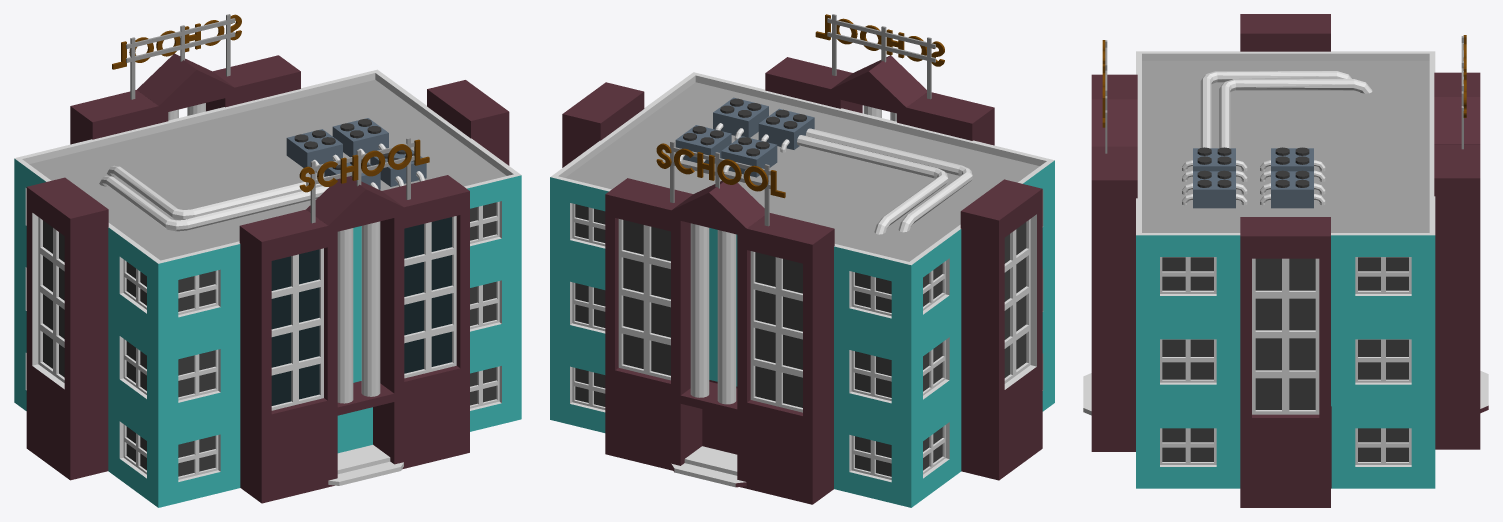
File: 05 School.fbx
The picture shows the model from 3 angles, left to right: view 1: azimuth 30°, elevation 25°; view 2: azimuth 150°, elevation 25°; view 3: azimuth 270°, elevation 25°; orthographic projection. The views are drawn at different scales.
Visible parts, largest first — view 1: School; view 2: School; view 3: School.
Boxes of the visible parts, x1,y1,x2,y2 form: School: (14,14,521,507); School: (550,14,1054,507); School: (1083,14,1488,507).
Size of the model in its own units: 439 by 308 by 338.
